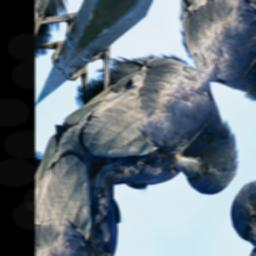Crow: (36, 0, 256, 252)
